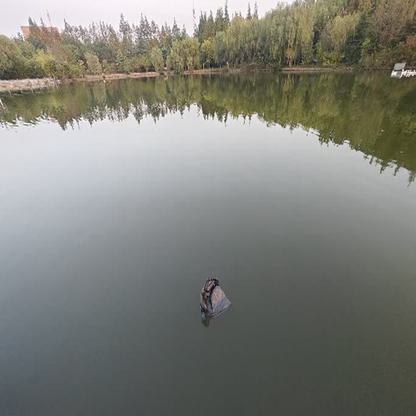plastic bag: (199, 276, 231, 323)
